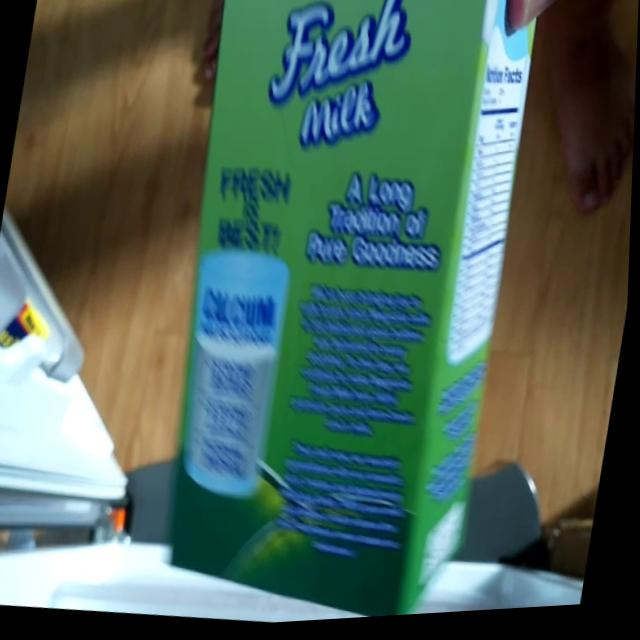milk: (127, 0, 549, 633)
